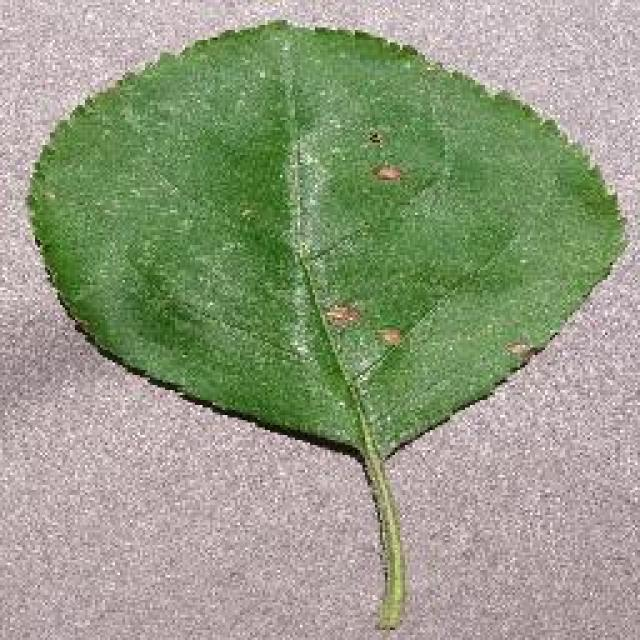black_rot: (308, 292, 434, 368), (356, 120, 413, 206), (500, 322, 555, 370)
